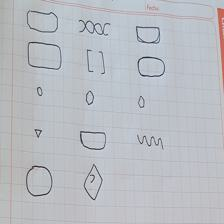complex-sbgn: (27, 10, 58, 33)
dsNA: (80, 19, 110, 36)
halfround-rectangle: (81, 131, 106, 150), (136, 26, 160, 42)
macromolecule: (28, 42, 61, 70)
no-glyph-assigned: (87, 49, 105, 74)
protein: (138, 57, 165, 77)
replacement-glyph: (84, 164, 102, 200)
simple-chemical-circle: (37, 86, 43, 96)
simple-chemical-hexagon: (86, 91, 94, 105)
simple-chemical-pentagon: (138, 96, 145, 108)
simple-chemical-triangle: (34, 129, 43, 137)
ssNA: (136, 134, 164, 150)
